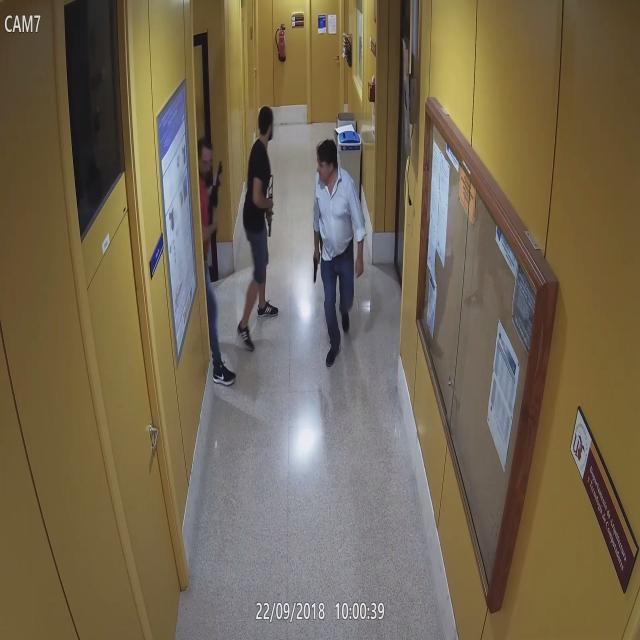Gun: (308, 244, 325, 288)
